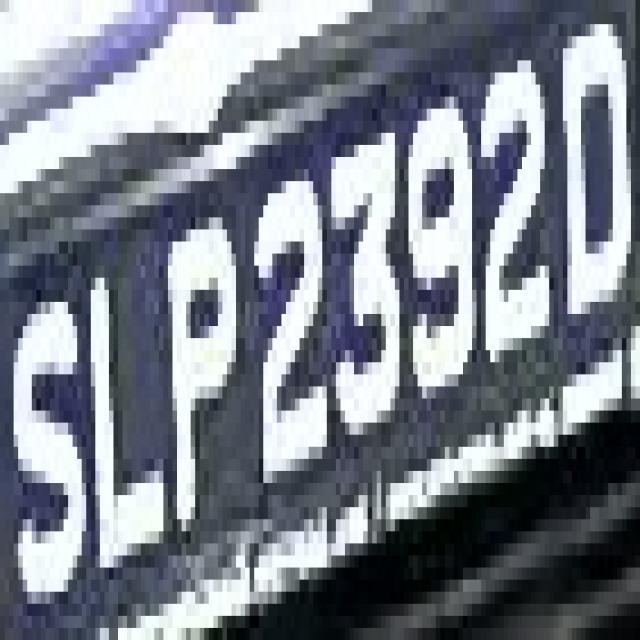2: (236, 145, 336, 531), (468, 61, 558, 410)
3: (327, 109, 418, 483)
9: (386, 84, 490, 459)
D: (549, 24, 622, 350)
L: (81, 181, 172, 568)
P: (164, 157, 232, 568)
S: (0, 5, 1, 12)
